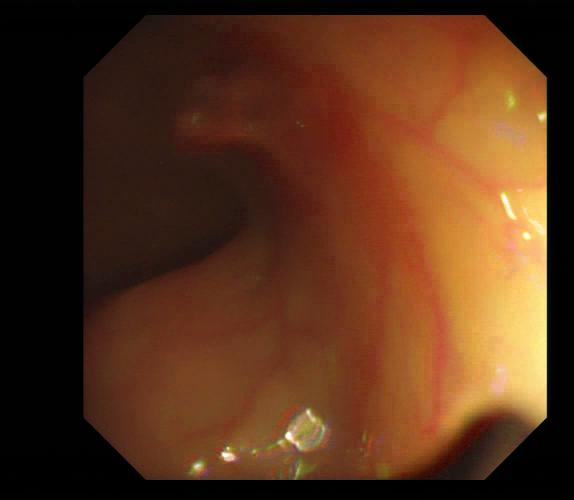polyp: (178, 78, 235, 148)
